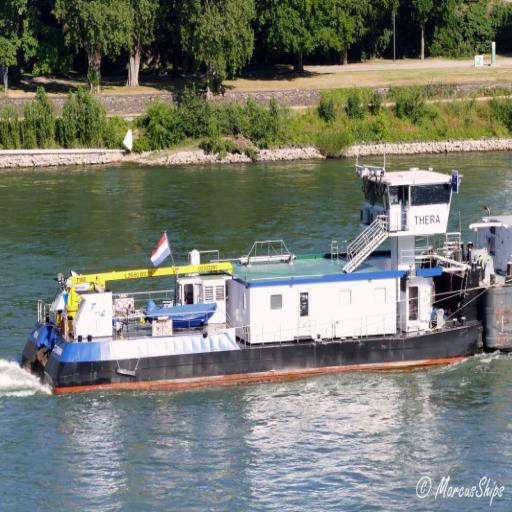tugboat: (21, 133, 494, 402)
